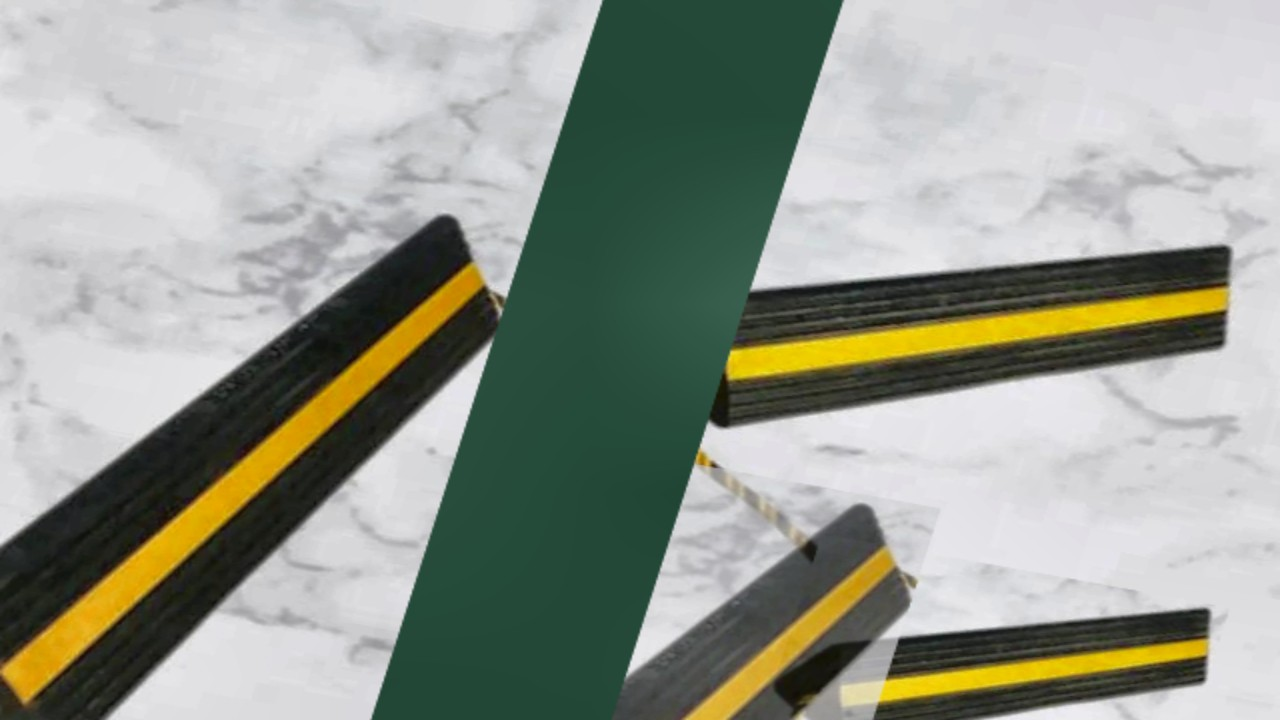chock: (0, 124, 535, 720), (617, 145, 1260, 510), (296, 423, 941, 720), (759, 534, 1230, 720)
